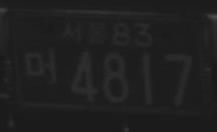1: (134, 51, 159, 106)
3: (132, 20, 154, 49)
4: (69, 49, 99, 104)
7: (161, 51, 194, 109)
8: (99, 51, 130, 104), (110, 20, 132, 47)
머: (22, 49, 58, 86)
서울_O: (61, 18, 107, 46)
